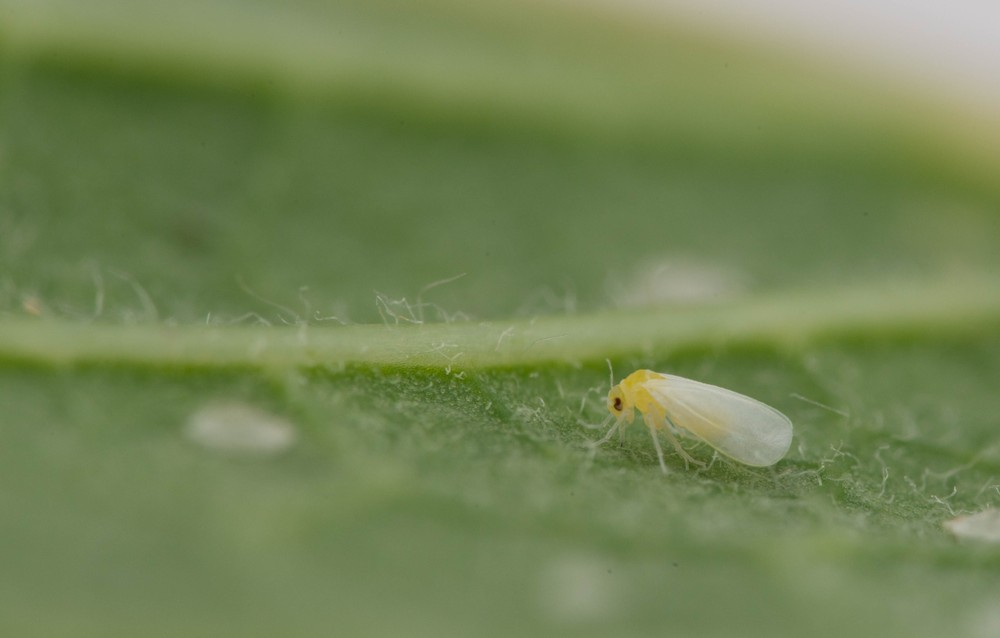Mosca Blanca: (576, 345, 812, 499)
